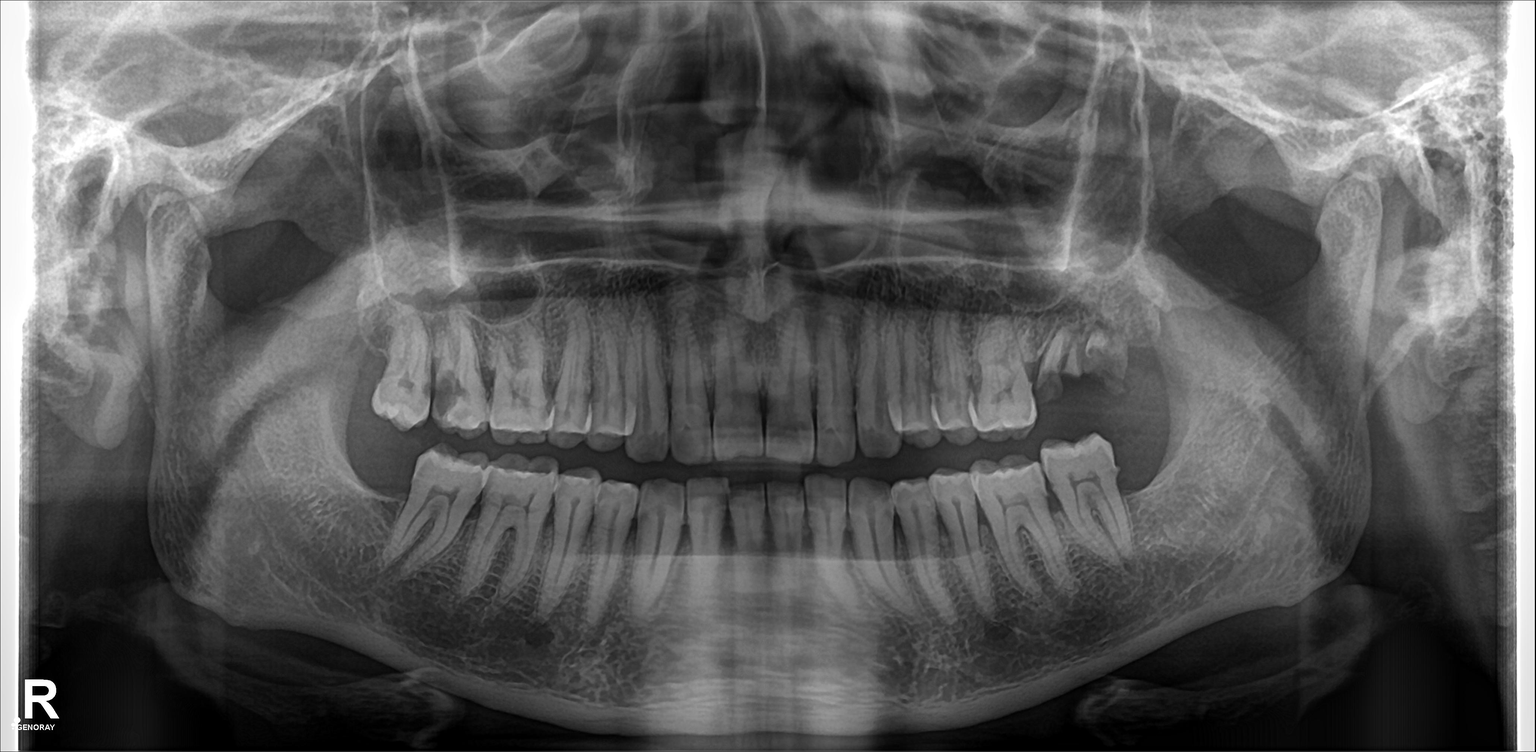Dental Caries: (425, 370, 468, 419)
Missing Tooth: (343, 437, 398, 535), (1119, 436, 1172, 532), (1121, 305, 1159, 402), (348, 326, 378, 410)
Retained Root: (1073, 322, 1125, 410), (1028, 320, 1070, 413)
